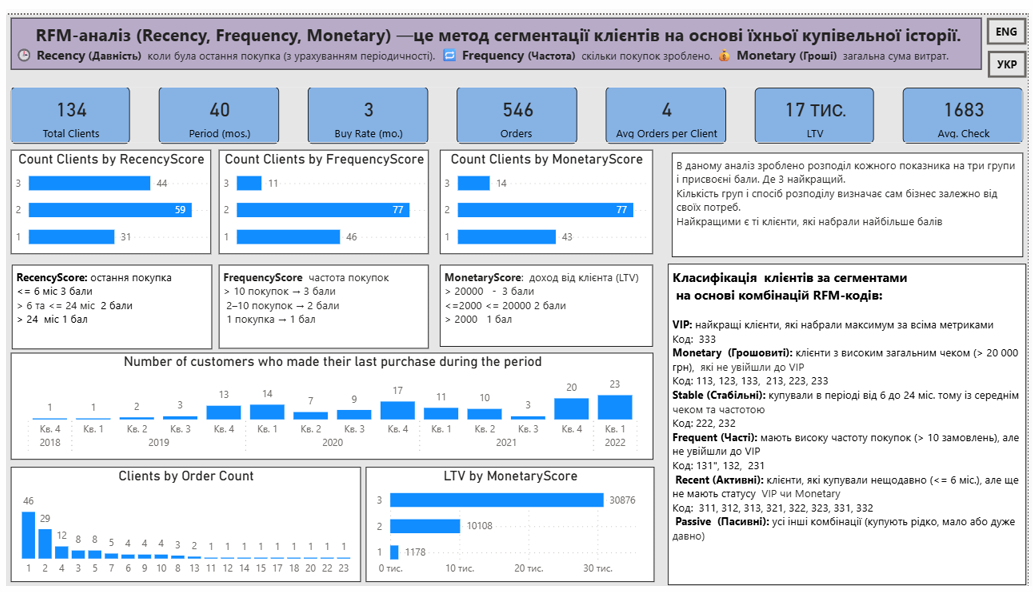

This screenshot's page, from the dashboard's own definition file:
{"tool":"powerbi","page":{"name":"RFM info","canvas":[1280,720],"ordinal":8},"visuals":[{"type":"textbox","title":"Заголовок eng","box":[8.7,2.9,1216.1,62.2],"z":0,"group":"g1"},{"type":"card","fields":{"Values":["_DAX_measures_.Total Orders"]},"box":[566.1,89.7,150.4,70.9],"z":0,"group":"g2"},{"type":"clusteredColumnChart","title":"Number of customers who made their last purchase during the period","fields":{"Category":["sells.last_date.Варіація.Ієрархія дат.Рік","sells.last_date.Варіація.Ієрархія дат.Квартал","sells.last_date.Варіація.Ієрархія дат.Місяць"],"Y":["_DAX_measures_.Total Clients"]},"box":[8.1,422.1,803.5,133.7],"z":0},{"type":"card","title":"середній чек","fields":{"Values":["_DAX_measures_.Average Check"]},"box":[1123.6,91.1,150.4,69.4],"z":1000,"group":"g2"},{"type":"clusteredBarChart","title":"Count Clients by RecencyScore","fields":{"Category":["sells.RecencyScore"],"Y":["_DAX_measures_.Total Clients"]},"box":[9.3,168.6,250,130.2],"z":1000},{"type":"textbox","title":"R eng","box":[8.7,308,250.2,102.7],"z":1000,"group":"g1"},{"type":"card","fields":{"Values":["_DAX_measures_.LTV"]},"box":[938.7,91.1,148.9,69.4],"z":2000,"group":"g2"},{"type":"clusteredBarChart","title":"Count Clients by FrequencyScore","fields":{"Category":["sells.FrequencyScore"],"Y":["_DAX_measures_.Total Clients"]},"box":[268.6,168.6,262.8,130.2],"z":2000},{"type":"textbox","title":"F eng","box":[269,308,261.7,102.7],"z":2000,"group":"g1"},{"type":"card","fields":{"Values":["_DAX_measures_.AvgIntMonths"]},"box":[379.8,89.7,150.4,70.9],"z":3000,"group":"g2"},{"type":"clusteredBarChart","title":"Count Clients by MonetaryScore","fields":{"Y":["_DAX_measures_.Total Clients"],"Category":["sells.MonetaryScore"]},"box":[545.4,168.6,266.3,130.2],"z":3000},{"type":"textbox","title":"M eng","box":[545.2,308,267.5,102.7],"z":3000,"group":"g1"},{"type":"card","fields":{"Values":["_DAX_measures_.Total Clients"]},"box":[8.7,89.7,148.9,70.9],"z":4000,"group":"g2"},{"type":"textbox","title":"Пояснення eng","box":[834.4,169.2,439.6,130.1],"z":4000,"group":"g1"},{"type":"clusteredColumnChart","title":"Clients by Order Count","fields":{"Y":["_DAX_measures_.Total Clients"],"Category":["sells.client_order"]},"box":[8.1,565.1,437.2,144.2],"z":4000},{"type":"card","fields":{"Values":["_DAX_measures_.TotalMonths"]},"box":[193.5,89.7,150.4,70.9],"z":5000,"group":"g2"},{"type":"textbox","title":"Групи eng","box":[834.4,308,439.6,402],"z":5000,"group":"g1"},{"type":"clusteredBarChart","title":"LTV by MonetaryScore","fields":{"Category":["sells.MonetaryScore"],"Y":["_DAX_measures_.LTV"]},"box":[452.3,565.1,360.5,144.2],"z":5000},{"type":"actionButton","box":[1229.3,3.4,49.6,33.8],"z":6000},{"type":"card","fields":{"Values":["_DAX_measures_.Avg Orders per Client"]},"box":[752.4,89.7,150.4,70.9],"z":6000,"group":"g2"},{"type":"actionButton","box":[1230.4,45.1,48.5,33.8],"z":7000},{"type":"group","id":"g1","title":"ENG","box":[8.7,2.9,1265.3,707.1],"z":8000},{"type":"group","id":"g2","title":"Картки","box":[8.7,89.7,1265.3,70.9],"z":10000}]}

Visuals, with their boxes in screenshot pixels (x1, y1, x2, y2), scaled from the page's 1280x720 canvas onto the 1033x592 screenshot:
"Заголовок eng" textbox: bbox(7, 2, 988, 54)
card - _DAX_measures_.Total Orders: bbox(457, 74, 578, 132)
"Number of customers who made their last purchase during the period" clusteredColumnChart: bbox(7, 347, 655, 457)
"середній чек" card: bbox(907, 75, 1028, 132)
"Count Clients by RecencyScore" clusteredBarChart: bbox(8, 139, 209, 246)
"R eng" textbox: bbox(7, 253, 209, 338)
card - _DAX_measures_.LTV: bbox(758, 75, 878, 132)
"Count Clients by FrequencyScore" clusteredBarChart: bbox(217, 139, 429, 246)
"F eng" textbox: bbox(217, 253, 428, 338)
card - _DAX_measures_.AvgIntMonths: bbox(307, 74, 428, 132)
"Count Clients by MonetaryScore" clusteredBarChart: bbox(440, 139, 655, 246)
"M eng" textbox: bbox(440, 253, 656, 338)
card - _DAX_measures_.Total Clients: bbox(7, 74, 127, 132)
"Пояснення eng" textbox: bbox(673, 139, 1028, 246)
"Clients by Order Count" clusteredColumnChart: bbox(7, 465, 359, 583)
card - _DAX_measures_.TotalMonths: bbox(156, 74, 278, 132)
"Групи eng" textbox: bbox(673, 253, 1028, 584)
"LTV by MonetaryScore" clusteredBarChart: bbox(365, 465, 656, 583)
actionButton: bbox(992, 3, 1032, 31)
card - _DAX_measures_.Avg Orders per Client: bbox(607, 74, 729, 132)
actionButton: bbox(993, 37, 1032, 65)
"ENG" group: bbox(7, 2, 1028, 584)
"Картки" group: bbox(7, 74, 1028, 132)
